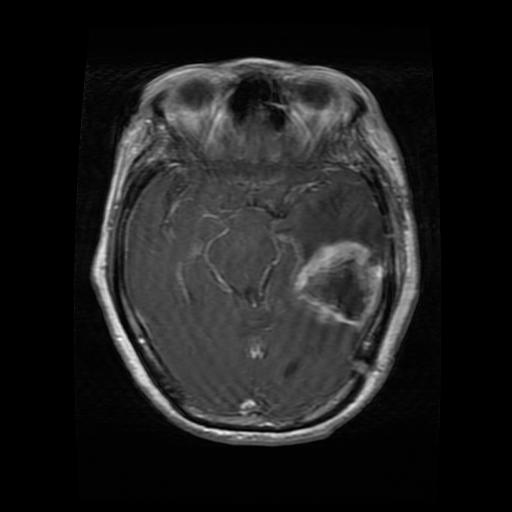Gliomia_tumour: (293, 234, 384, 327)
